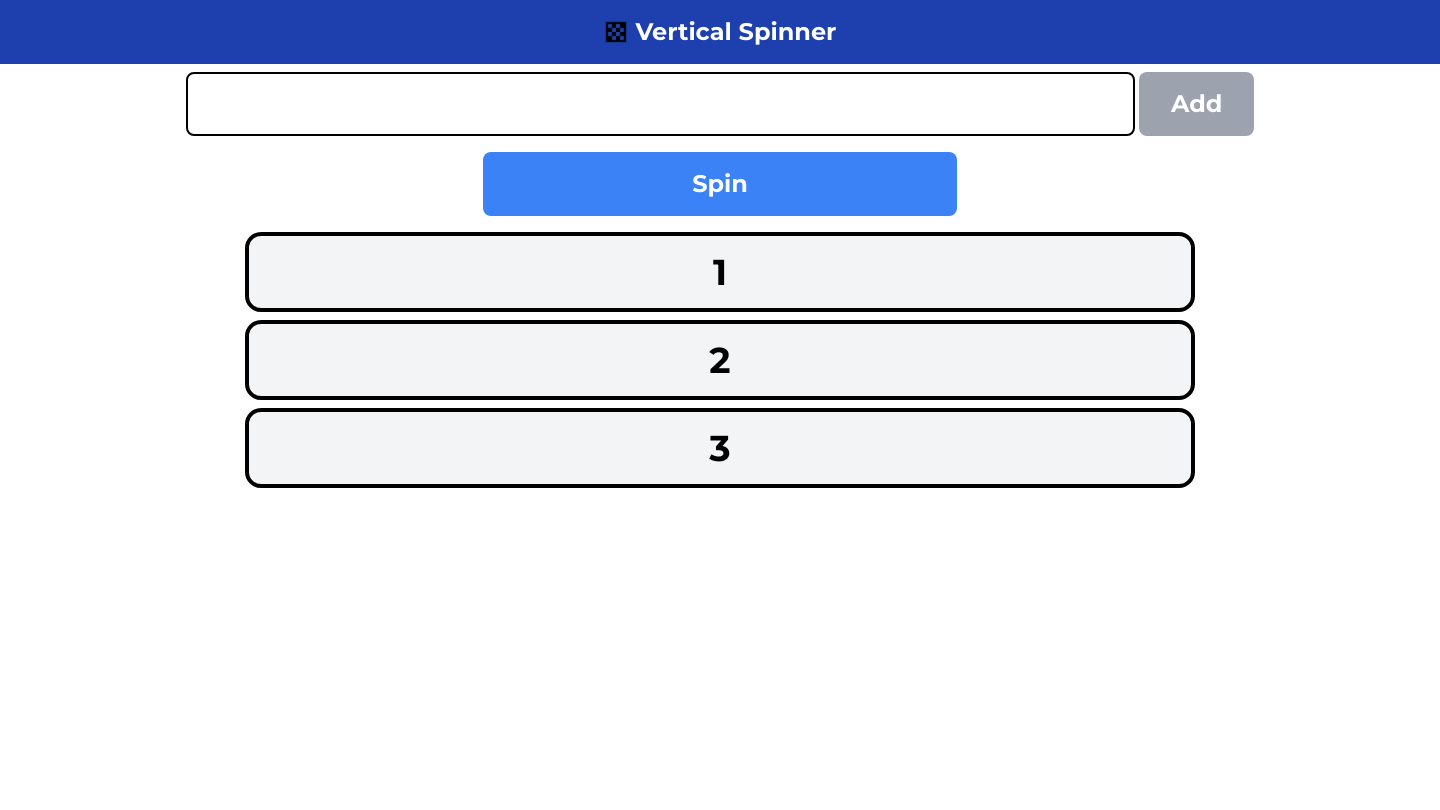
Test: <VerticalSpinner /> › should render input and spinner
This screenshot has width=1440, height=810.
Expected: the button "1" is shown, [245,232,1195,312]
Expected: the button "2" is shown, [245,320,1195,400]
Step 1. Type "4" into the field named "item title" → (660, 104), box [186,72,1135,136]
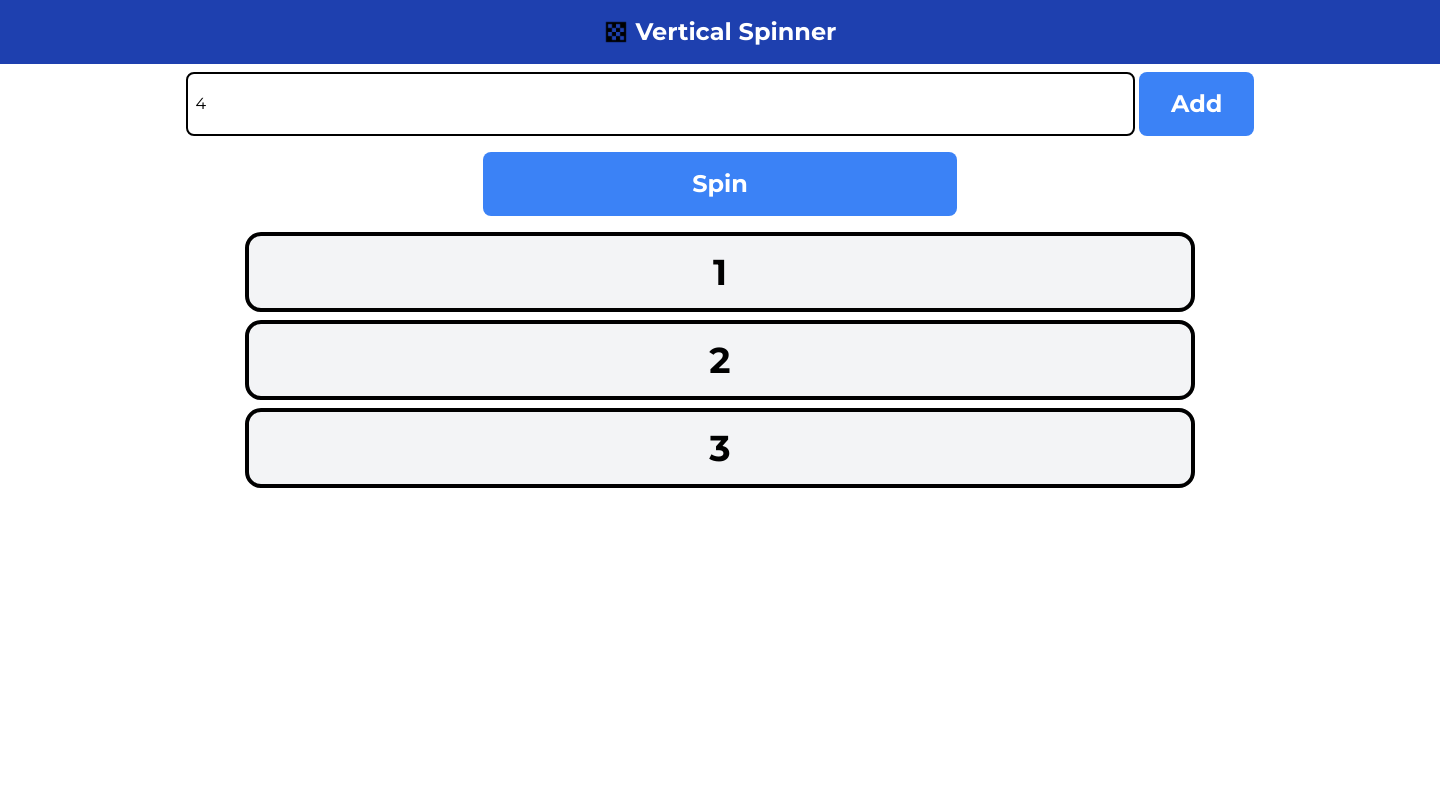
Step 2. Click the button "Add" → click(1197, 104), box [1139,72,1254,136]
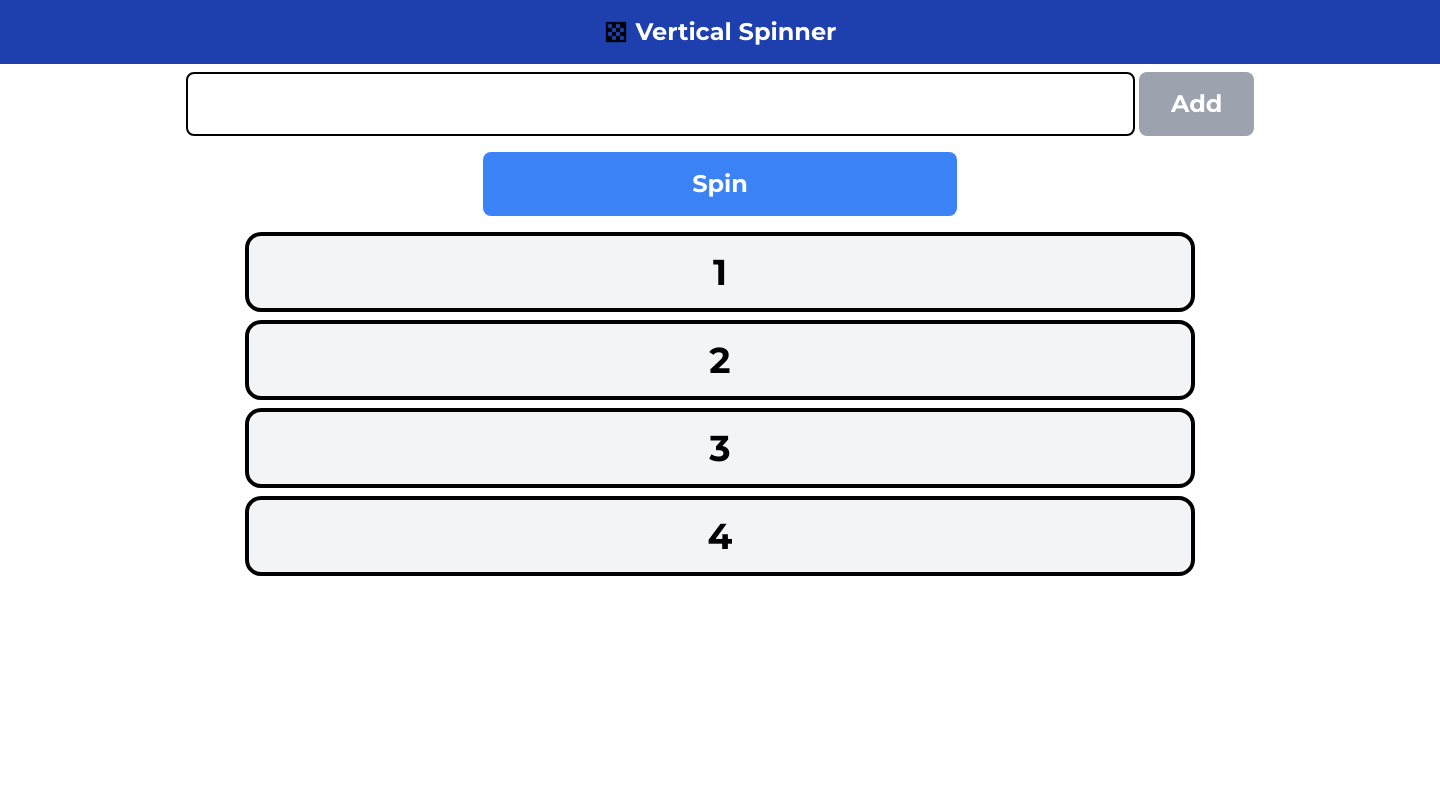
Result: the button "4" is shown at [245,496,1195,576]
